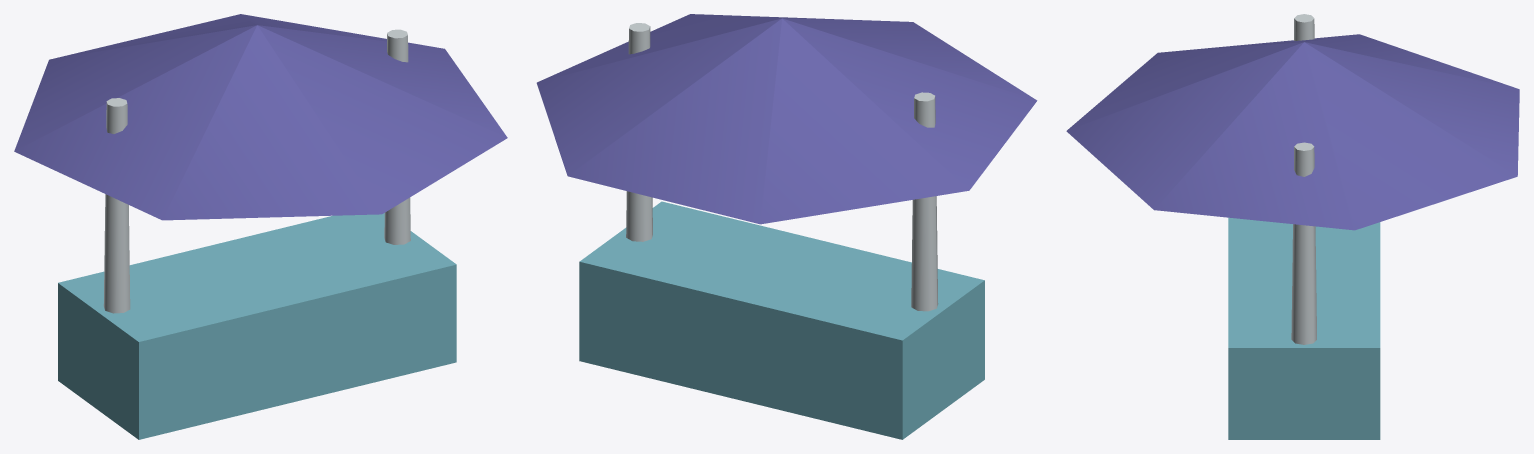
Rendered from market_booth.glb.
3 renders of one model, left to right at view 1: azimuth 30°, elevation 25°; view 2: azimuth 150°, elevation 25°; view 3: azimuth 270°, elevation 25°, orthographic. The views are drawn at different scales.
Visible parts, largest first — view 1: booth_canopy, booth_counter, booth_post_-1, booth_post_1; view 2: booth_canopy, booth_counter, booth_post_-1, booth_post_1; view 3: booth_canopy, booth_counter, booth_post_1, booth_post_-1.
Part boxes in pixels (x1,y1,x2,y2): booth_canopy: (14,14,507,220); booth_counter: (58,213,456,439); booth_post_-1: (103,98,130,313); booth_post_1: (384,29,410,244); booth_canopy: (536,14,1037,224); booth_counter: (579,201,984,439); booth_post_-1: (911,92,938,311); booth_post_1: (626,23,652,241); booth_canopy: (1066,34,1519,230); booth_counter: (1228,217,1380,439); booth_post_1: (1291,142,1316,344); booth_post_-1: (1294,14,1314,40).
Size of what is drawn, in the model's own units: 4.58 by 3.54 by 4.48.
